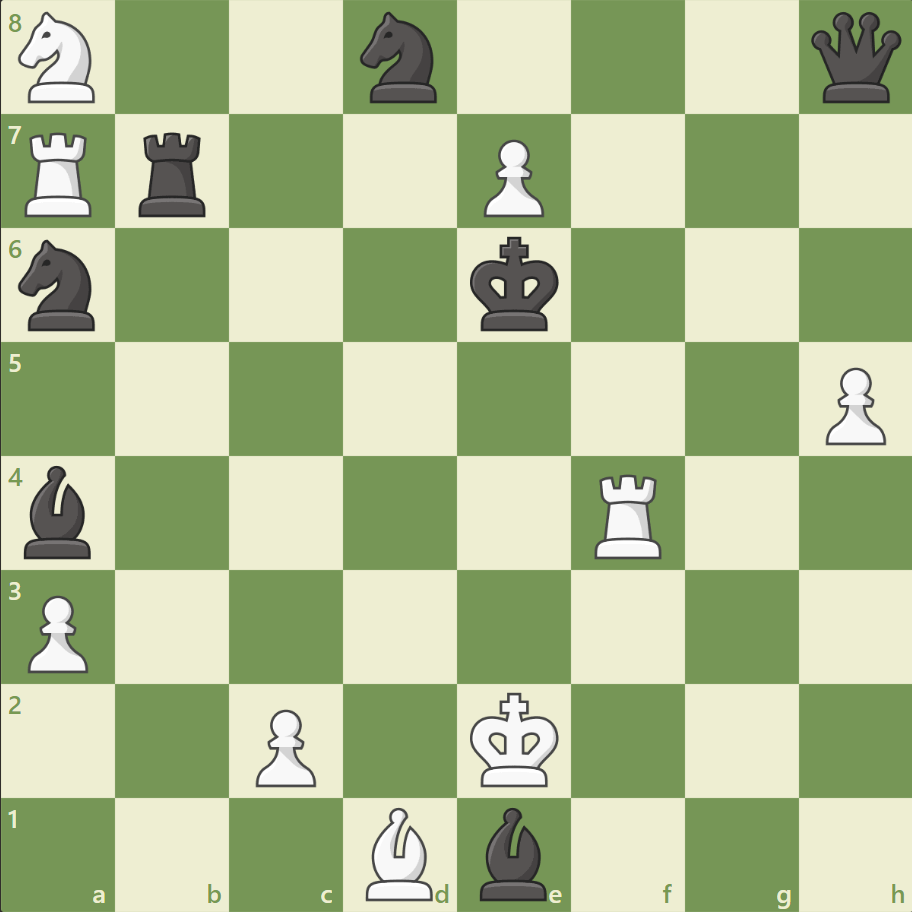B: (358, 801, 442, 904)
K: (465, 685, 565, 793)
N: (11, 7, 108, 110)
P: (474, 132, 549, 223), (20, 586, 95, 677), (247, 700, 322, 791), (815, 359, 889, 450)
R: (19, 125, 102, 222), (587, 466, 670, 563)
b: (17, 460, 101, 563), (471, 801, 555, 904)
k: (465, 231, 565, 339)
n: (351, 7, 449, 110), (11, 234, 108, 337)
q: (805, 9, 904, 108)
r: (133, 125, 215, 222)
